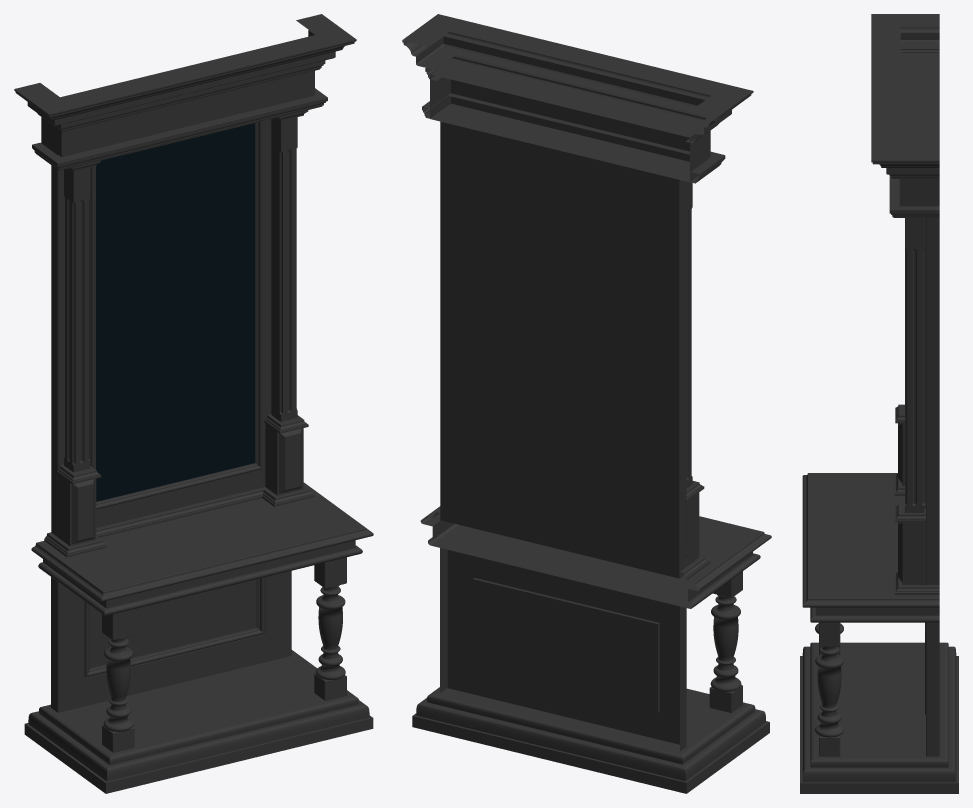
File: Miror.FBX
3 views of the same model, side by side, from view 1: azimuth 30°, elevation 25°; view 2: azimuth 150°, elevation 25°; view 3: azimuth 270°, elevation 25° (orthographic). The views are drawn at different scales.
Visible parts, largest first — view 1: Miror; view 2: Miror; view 3: Miror.
Part boxes in pixels (x1,y1,x2,y2): Miror: (14,14,373,793); Miror: (402,14,771,793); Miror: (800,14,958,793).
Size of what is drawn, in the model's own units: 108 by 49.24 by 220.
